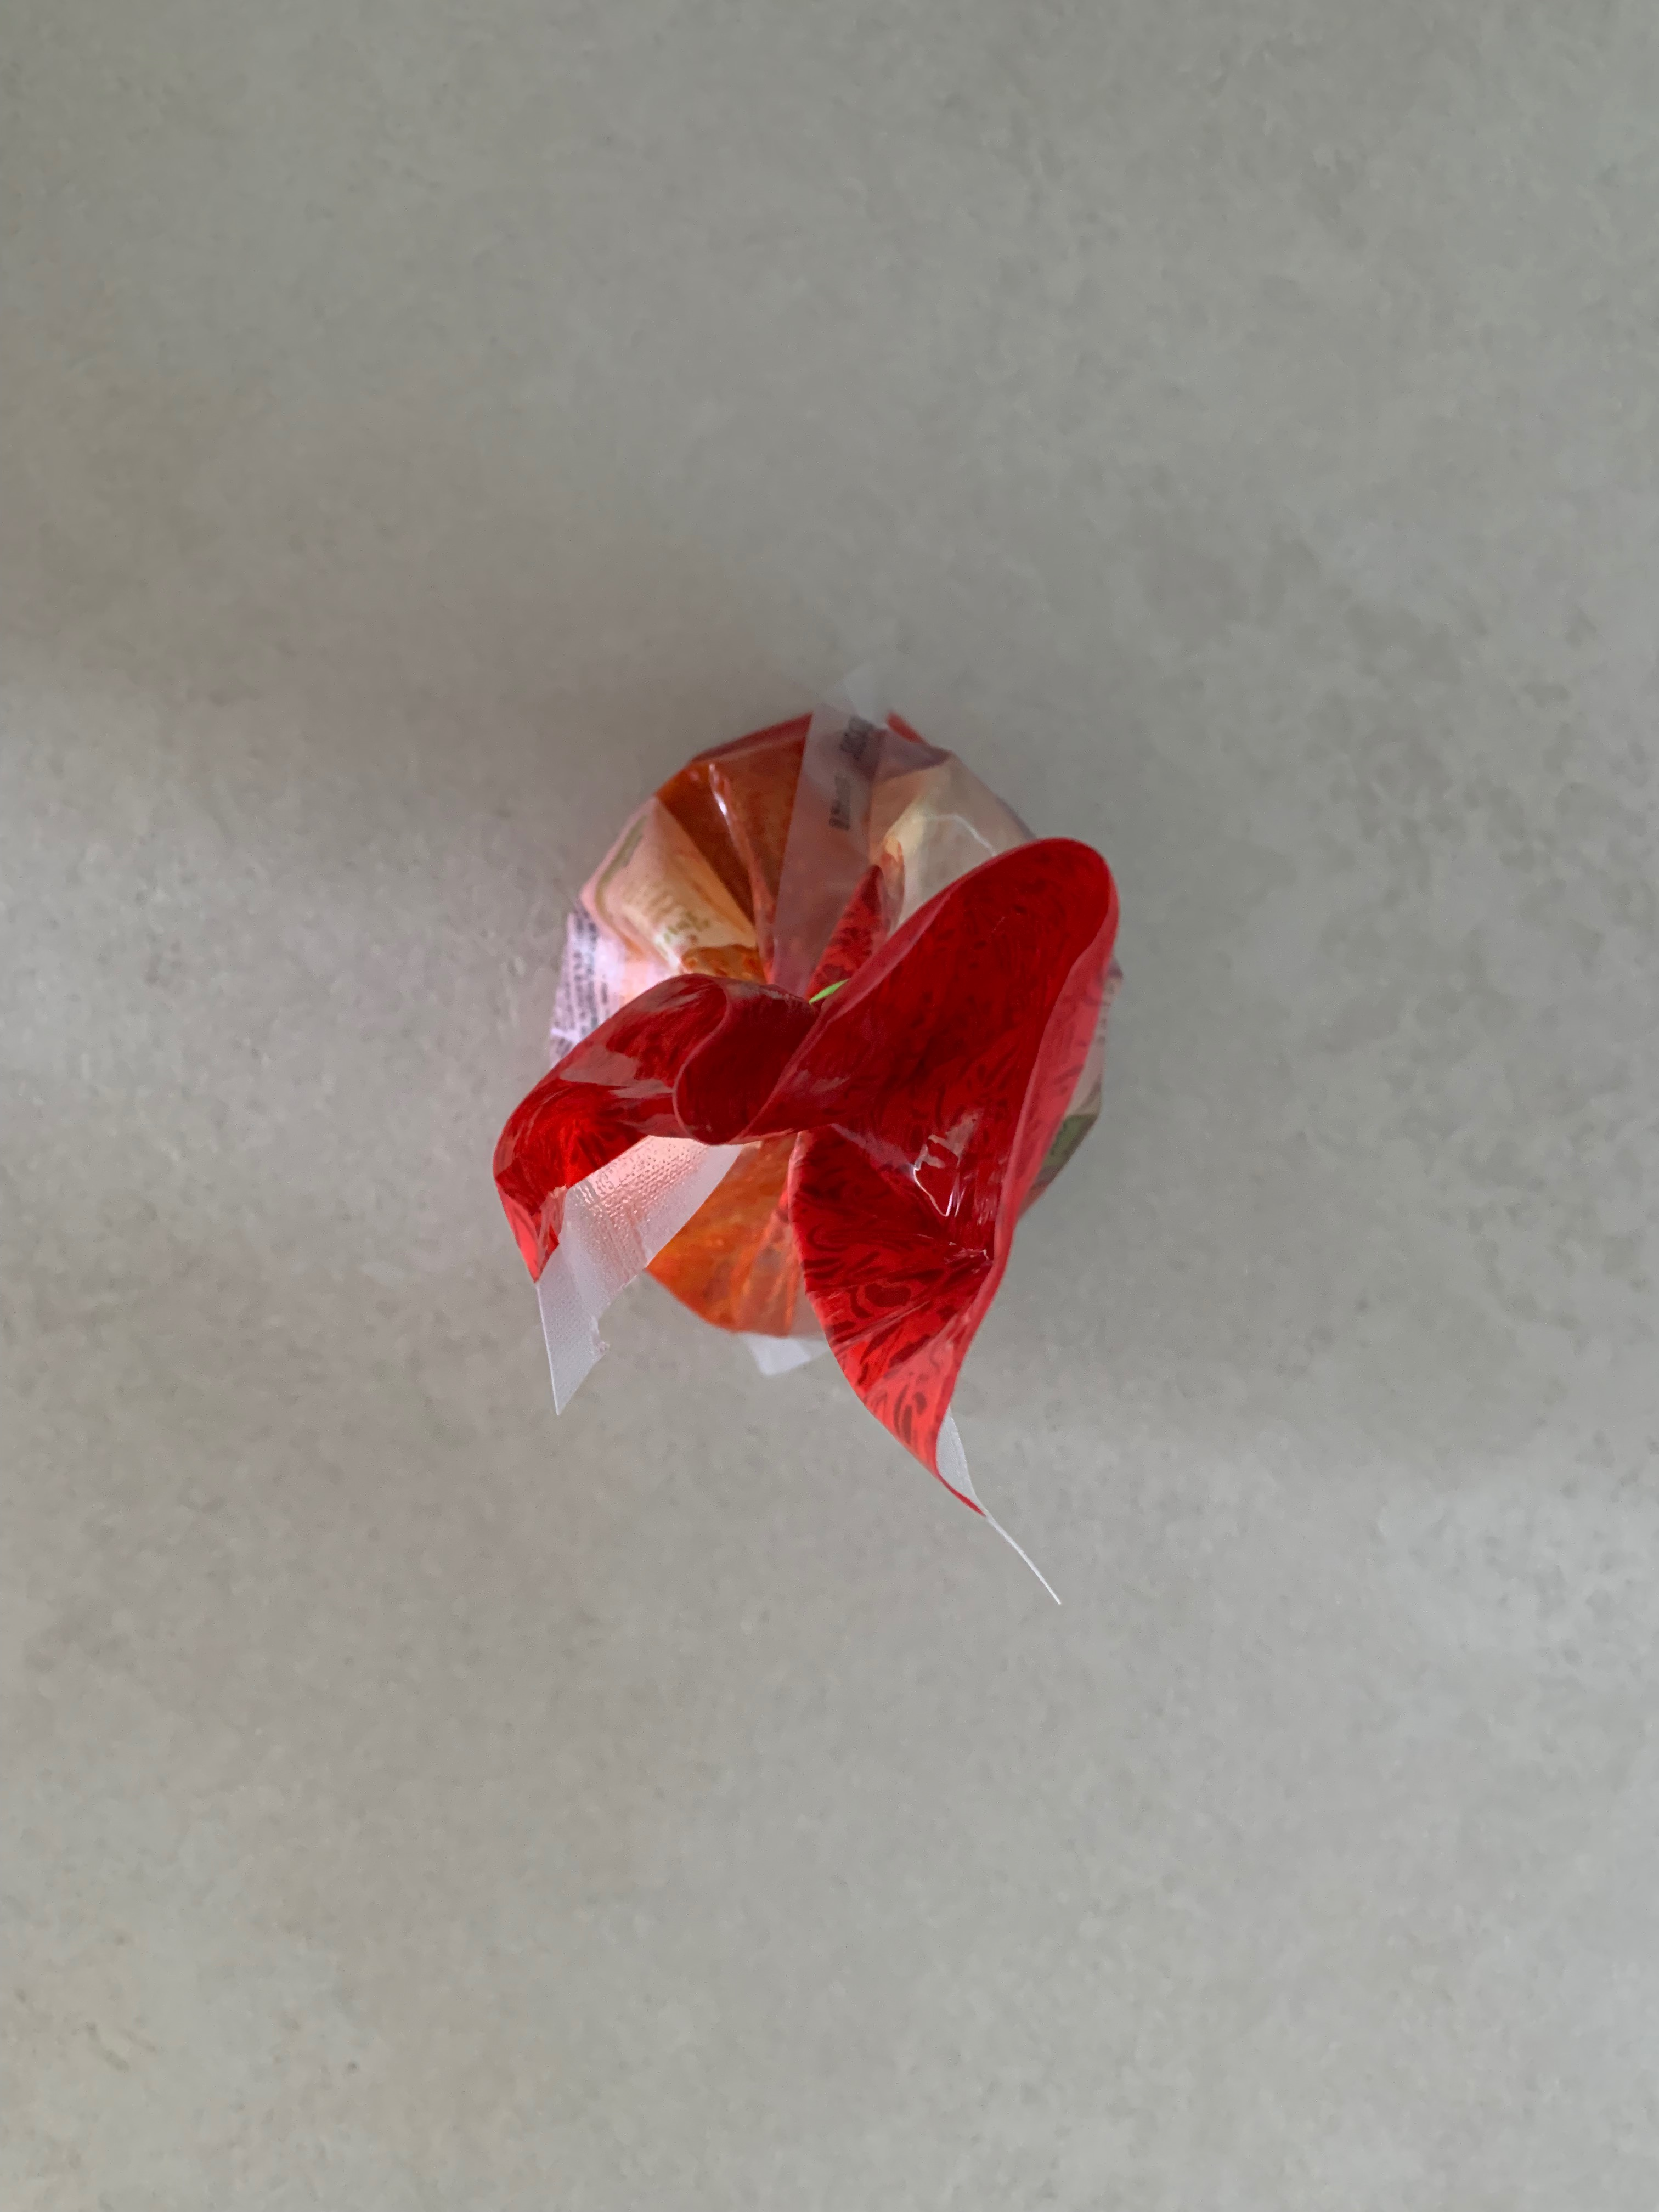kimchi: (491, 714, 1112, 1496)
